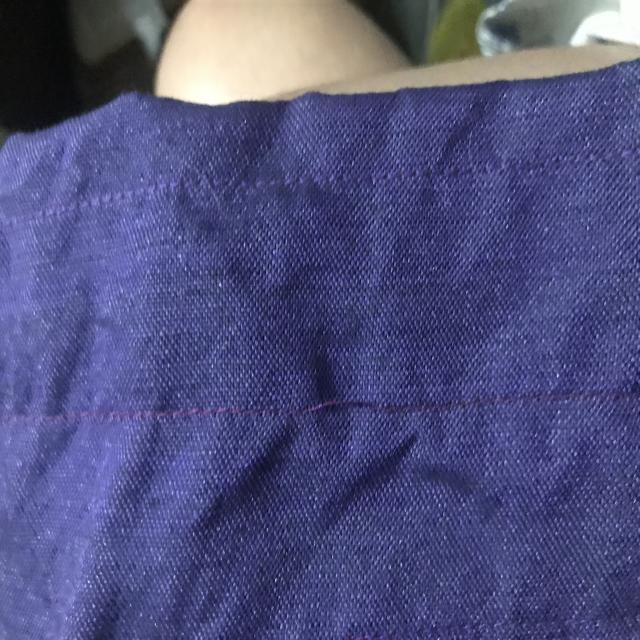skip: (295, 384, 396, 437)
